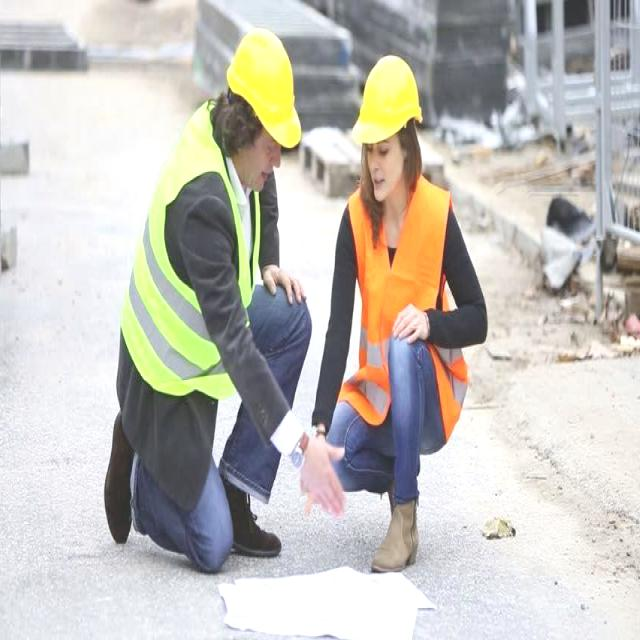face_nomask: (364, 126, 410, 206), (243, 128, 287, 197)
hand_noglove: (300, 432, 345, 521), (390, 298, 434, 354), (258, 266, 306, 306)
head_helmet: (225, 17, 302, 151), (348, 54, 426, 142)
person: (105, 48, 309, 569), (340, 47, 454, 550)
shoes: (211, 464, 285, 561), (99, 400, 141, 552), (364, 497, 427, 582)
vest: (123, 175, 262, 393), (334, 178, 458, 402)
